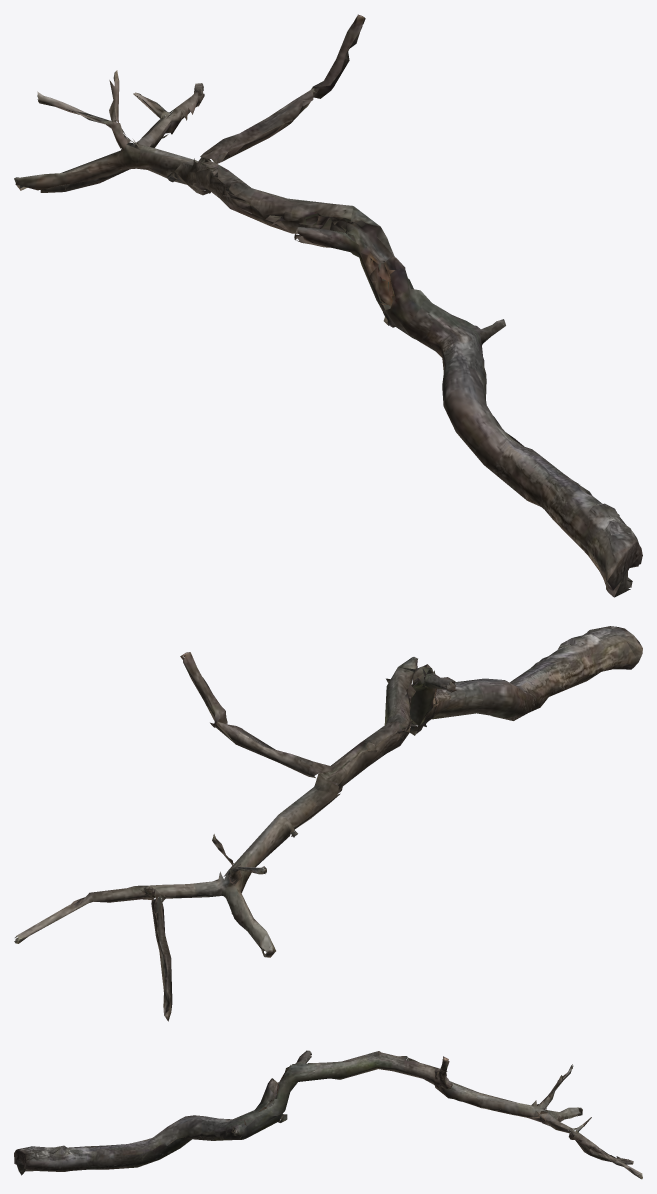
The model's file is branches.glb.
3 renders of one model, top to bottom at view 1: azimuth 30°, elevation 25°; view 2: azimuth 150°, elevation 25°; view 3: azimuth 270°, elevation 25°, orthographic. The views are drawn at different scales.
Visible parts, largest first — view 1: dry_branches_medium_01_a; view 2: dry_branches_medium_01_a; view 3: dry_branches_medium_01_a.
Boxes of the visible parts, x1=… form: dry_branches_medium_01_a: x1=14, y1=14, x2=642, y2=597; dry_branches_medium_01_a: x1=14, y1=626, x2=642, y2=1021; dry_branches_medium_01_a: x1=14, y1=1050, x2=642, y2=1179.
Bounding box in the file's own units: 0.324 × 0.3401 × 1.3.
1 material, 1 textured.
